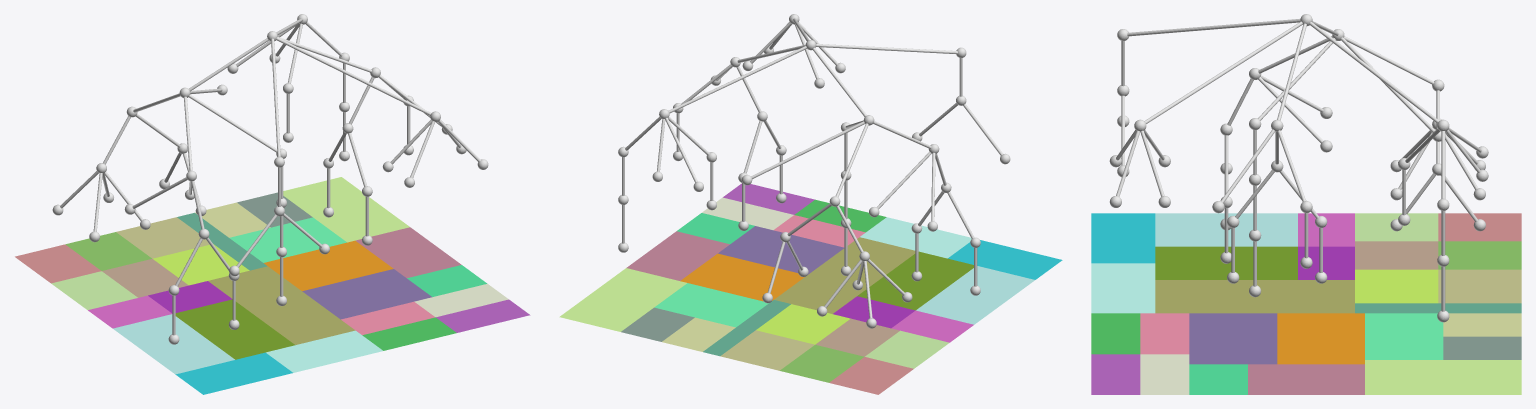
The model's file is 3DTree.fbx.
3 renders of one model, left to right at view 1: azimuth 30°, elevation 25°; view 2: azimuth 150°, elevation 25°; view 3: azimuth 270°, elevation 25°, orthographic. The views are drawn at different scales.
Visible parts, largest first — view 1: Piano.015, Piano.010, Piano.019, Piano.018, Piano.012, Piano.014, Piano.011, Piano.007, Piano.023, Piano.003, Piano.013, Piano.009 (+16 smaller); view 2: Piano.015, Piano.010, Piano.019, Piano.018, Piano.014, Piano.012, Piano.003, Piano.011, Piano.007, Piano.023, Piano.013, Piano.009 (+17 smaller); view 3: Piano.015, Piano.010, Piano.012, Piano.014, Piano.018, Piano.019, Piano.003, Piano.011, Piano.007, Piano.023, Piano.009, Piano.013 (+22 smaller).
Boxes of the visible parts, x1,y1,x2,y2 form: Piano.015: (208,266,355,344); Piano.010: (283,177,409,242); Piano.019: (113,314,234,374); Piano.018: (175,299,295,359); Piano.012: (302,269,432,319); Piano.014: (264,240,393,291); Piano.011: (355,227,461,277); Piano.007: (175,352,292,394); Piano.023: (266,330,382,372); Piano.003: (229,217,346,262); Piano.013: (116,217,209,258); Piano.009: (153,244,249,285); Piano.015: (774,237,915,313); Piano.010: (559,268,686,331); Piano.019: (916,266,1034,324); Piano.018: (857,251,973,310); Piano.014: (680,253,804,301); Piano.012: (718,226,843,274); Piano.003: (654,283,768,327); Piano.011: (626,231,729,280); Piano.007: (948,240,1062,279); Piano.023: (860,217,971,258); Piano.013: (720,330,814,370); Piano.009: (756,304,850,344); Piano.015: (1155,280,1354,313); Piano.010: (1365,360,1521,394); Piano.012: (1189,313,1277,364); Piano.014: (1277,313,1364,364); Piano.018: (1155,246,1297,279); Piano.019: (1155,213,1297,246); Piano.003: (1365,313,1443,359); Piano.011: (1248,364,1364,394); Piano.007: (1091,213,1155,263); Piano.023: (1091,263,1155,313); Piano.009: (1355,269,1438,303); Piano.013: (1438,269,1521,303).
Bounding box in the file's own units: 7000 × 5200 × 7000.
